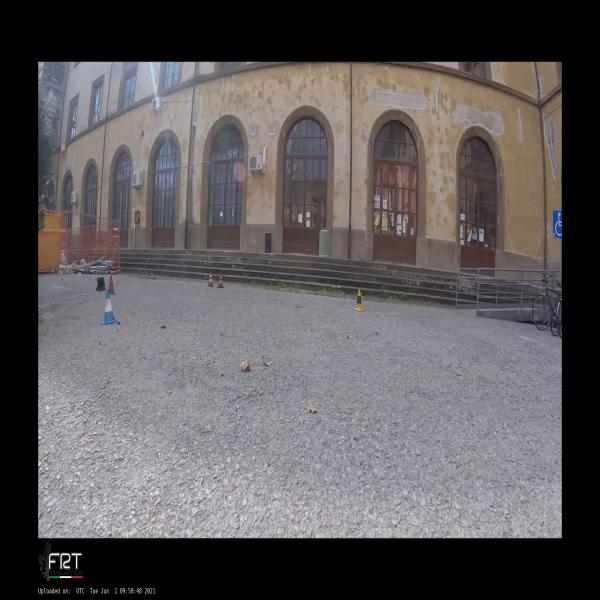blue_cone: (101, 290, 116, 324)
large_orange_cone: (217, 274, 224, 288), (207, 272, 214, 286)
unknown_cone: (108, 276, 117, 294), (96, 277, 106, 291)
yellow_cone: (353, 289, 365, 311)
